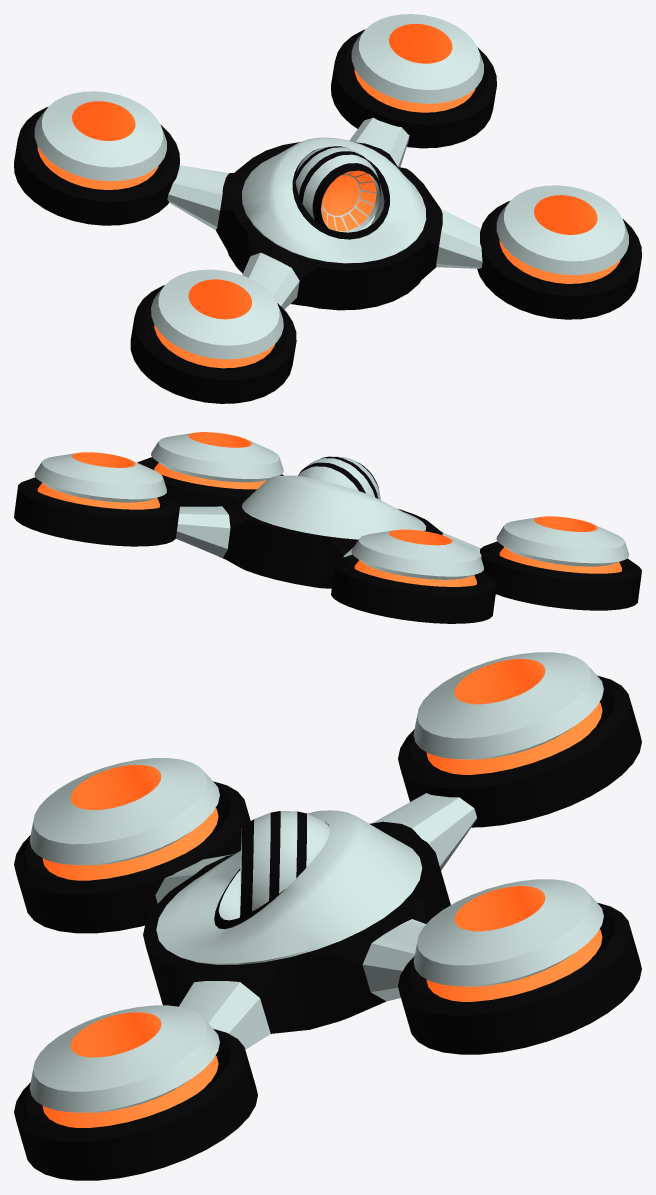
File: uçan hızlı robot.fbx
3 renders of one model, top to bottom at view 1: azimuth 30°, elevation 25°; view 2: azimuth 150°, elevation 25°; view 3: azimuth 270°, elevation 25°, orthographic. The views are drawn at different scales.
Parts seen in each view (by area): view 1: hızlı uçan robot; view 2: hızlı uçan robot; view 3: hızlı uçan robot.
Part boxes in pixels (<box>): hızlı uçan robot: <box>14,14,641,403</box>; hızlı uçan robot: <box>14,432,641,623</box>; hızlı uçan robot: <box>14,652,641,1180</box>.
Size of the model in its own units: 517 by 168 by 393.
